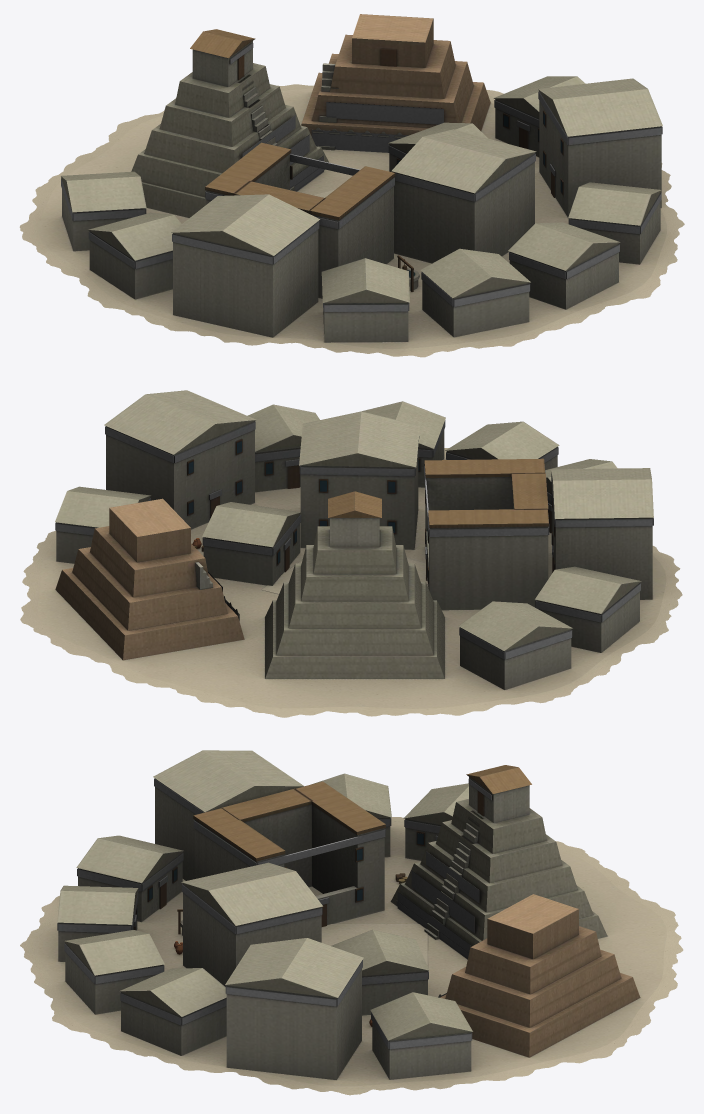
The model's file is classical-town-medium-a-americas.glb.
3 renders of one model, top to bottom at view 1: azimuth 30°, elevation 25°; view 2: azimuth 150°, elevation 25°; view 3: azimuth 270°, elevation 25°, orthographic.
Parts seen in each view (by area): view 1: LOD0; view 2: LOD0; view 3: LOD0.
Boxes of the visible parts, left/top/right/bottom form: LOD0: left=19, top=14, right=684, bottom=357; LOD0: left=20, top=390, right=682, bottom=717; LOD0: left=20, top=750, right=683, bottom=1095.
Size of what is drawn, in the model's own units: 5.94 by 1.45 by 5.94.
3 materials, 3 textured.
